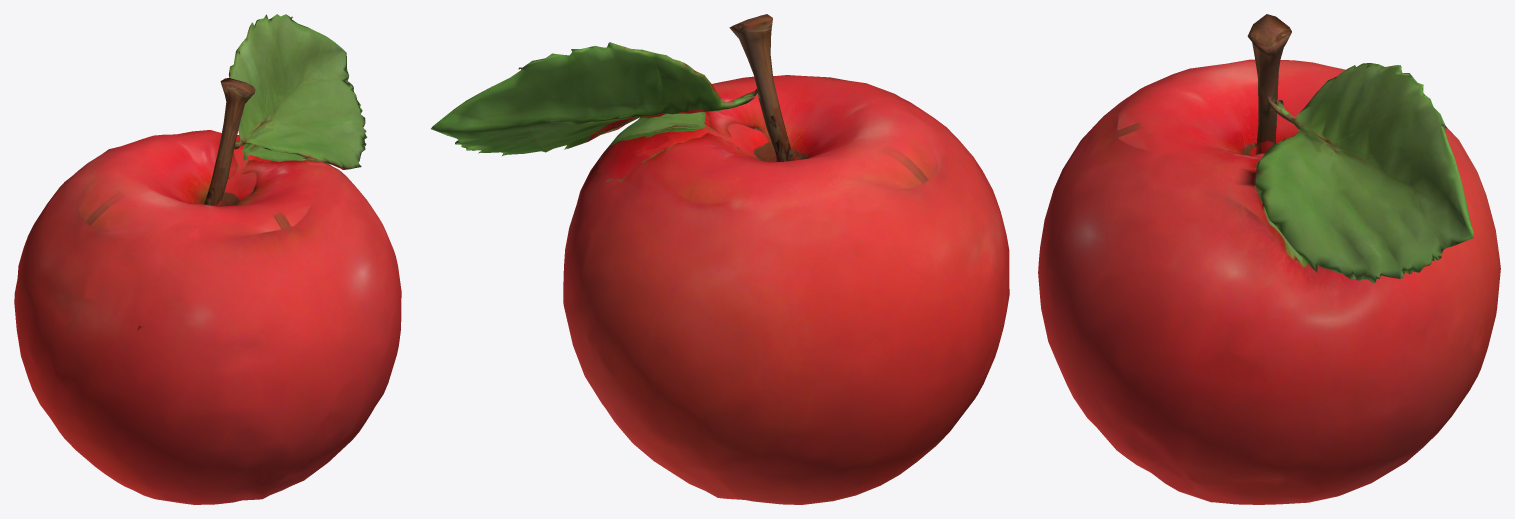
3 views of the same model, side by side, from view 1: azimuth 30°, elevation 25°; view 2: azimuth 150°, elevation 25°; view 3: azimuth 270°, elevation 25° (orthographic). The views are drawn at different scales.
Visible parts, largest first — view 1: Mesh1; view 2: Mesh1; view 3: Mesh1.
Part boxes in pixels (left/top/right/bottom): Mesh1: left=14, top=14, right=401, bottom=504; Mesh1: left=431, top=14, right=1009, bottom=504; Mesh1: left=1038, top=14, right=1500, bottom=504.
Bounding box in the file's own units: 199 × 188 × 171.
1 material, 1 textured.
